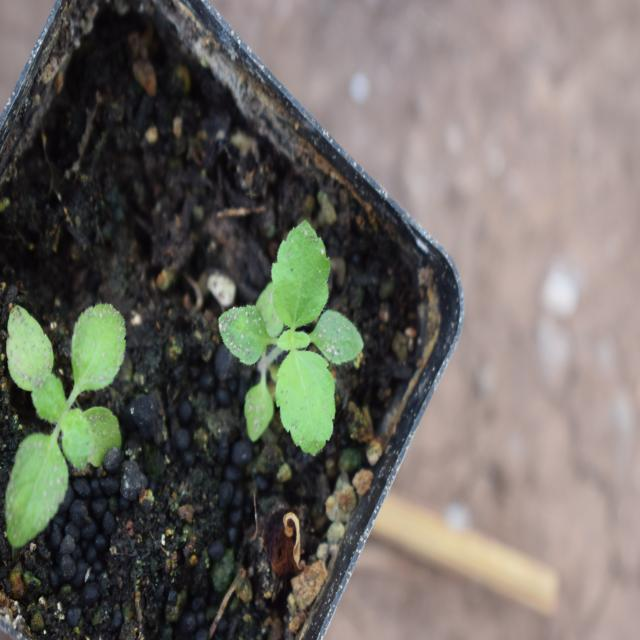billygoat_weed: (209, 211, 355, 443), (0, 285, 131, 535)
